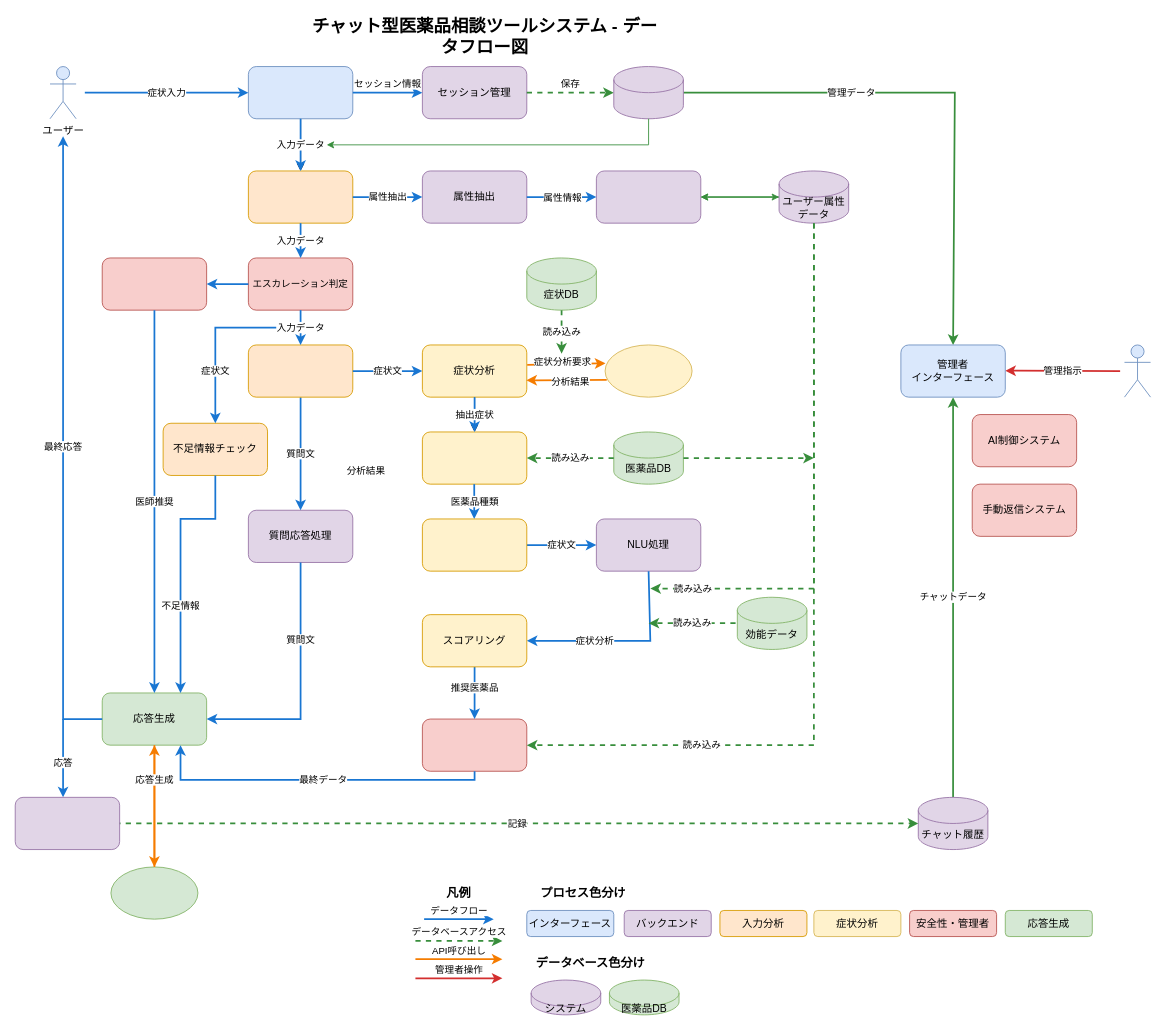
Some shapes in this 1168 by 1030 pixel diagram are drawn without their labels. Here are the shapes that lost their labels. From the top down, the centre of each, then its label:
At pixel 300 92: "ユーザー インターフェース".
At pixel 648 92: "セッション データ".
At pixel 300 196: "入力分類器".
At pixel 648 196: "ユーザー属性管理".
At pixel 154 283: "医師相談推奨".
At pixel 300 370: "質問判定".
At pixel 648 370: "OpenAI API".
At pixel 1137 370: "管理者".
At pixel 474 457: "医薬品種類判定".
At pixel 474 544: "医薬品推奨システム".
At pixel 474 744: "安全性チェック".
At pixel 67 823: "ログ記録".
At pixel 154 892: "大規模言語モデル API".
